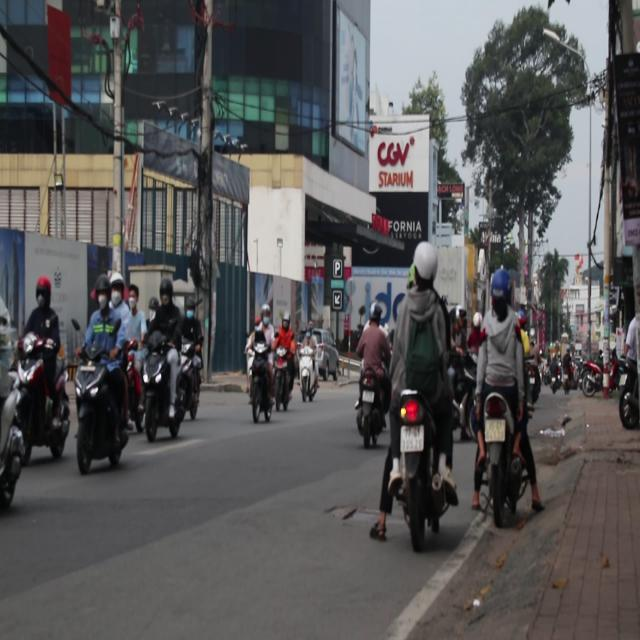car: (314, 330, 338, 382)
motorbike: (374, 384, 456, 550), (2, 337, 72, 501), (472, 382, 534, 528), (73, 341, 133, 475), (137, 339, 187, 440), (248, 334, 276, 436), (176, 336, 205, 428), (359, 370, 383, 442), (275, 340, 295, 412), (578, 355, 607, 398), (300, 338, 314, 407)
